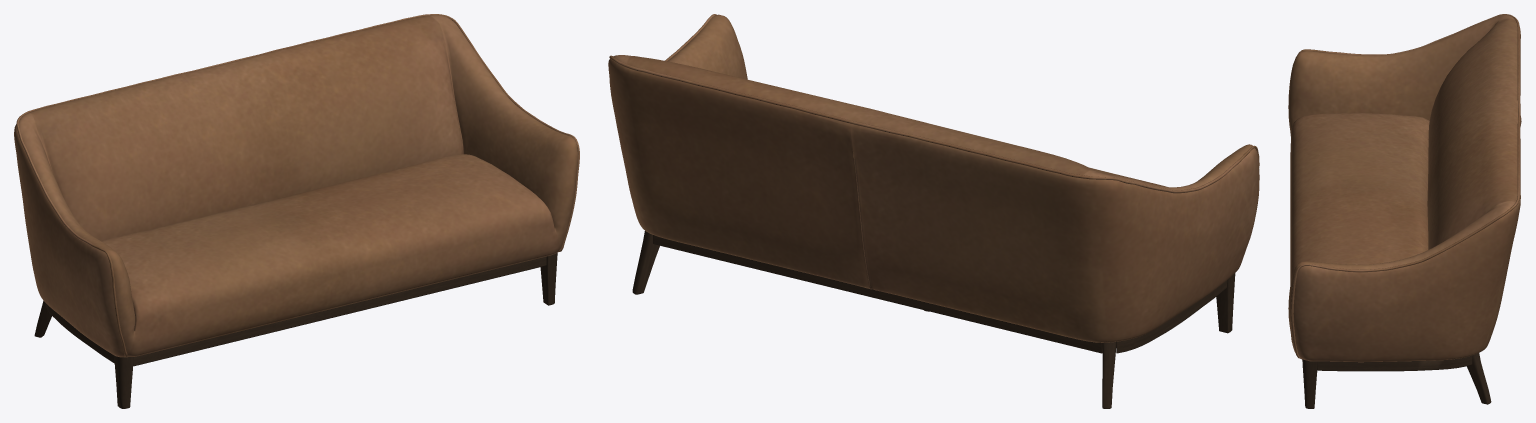
The picture shows the model from 3 angles, left to right: view 1: azimuth 30°, elevation 25°; view 2: azimuth 150°, elevation 25°; view 3: azimuth 270°, elevation 25°; orthographic projection. The views are drawn at different scales.
Visible parts, largest first — view 1: RootNode; view 2: RootNode; view 3: RootNode.
Part boxes in pixels (x1,y1,x2,y2): RootNode: (14,14,579,408); RootNode: (608,14,1259,408); RootNode: (1288,14,1521,408).
Bounding box in the file's own units: 1.93 × 0.83 × 0.8692.
Materials: 1 (1 with a texture image).
